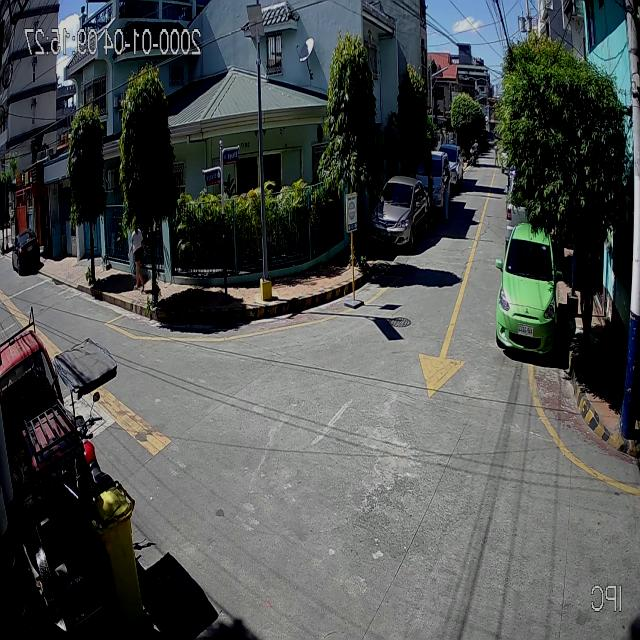standing: (439, 166, 452, 221), (425, 166, 436, 223), (473, 139, 480, 165)
walking: (128, 220, 146, 292), (494, 141, 500, 166)
